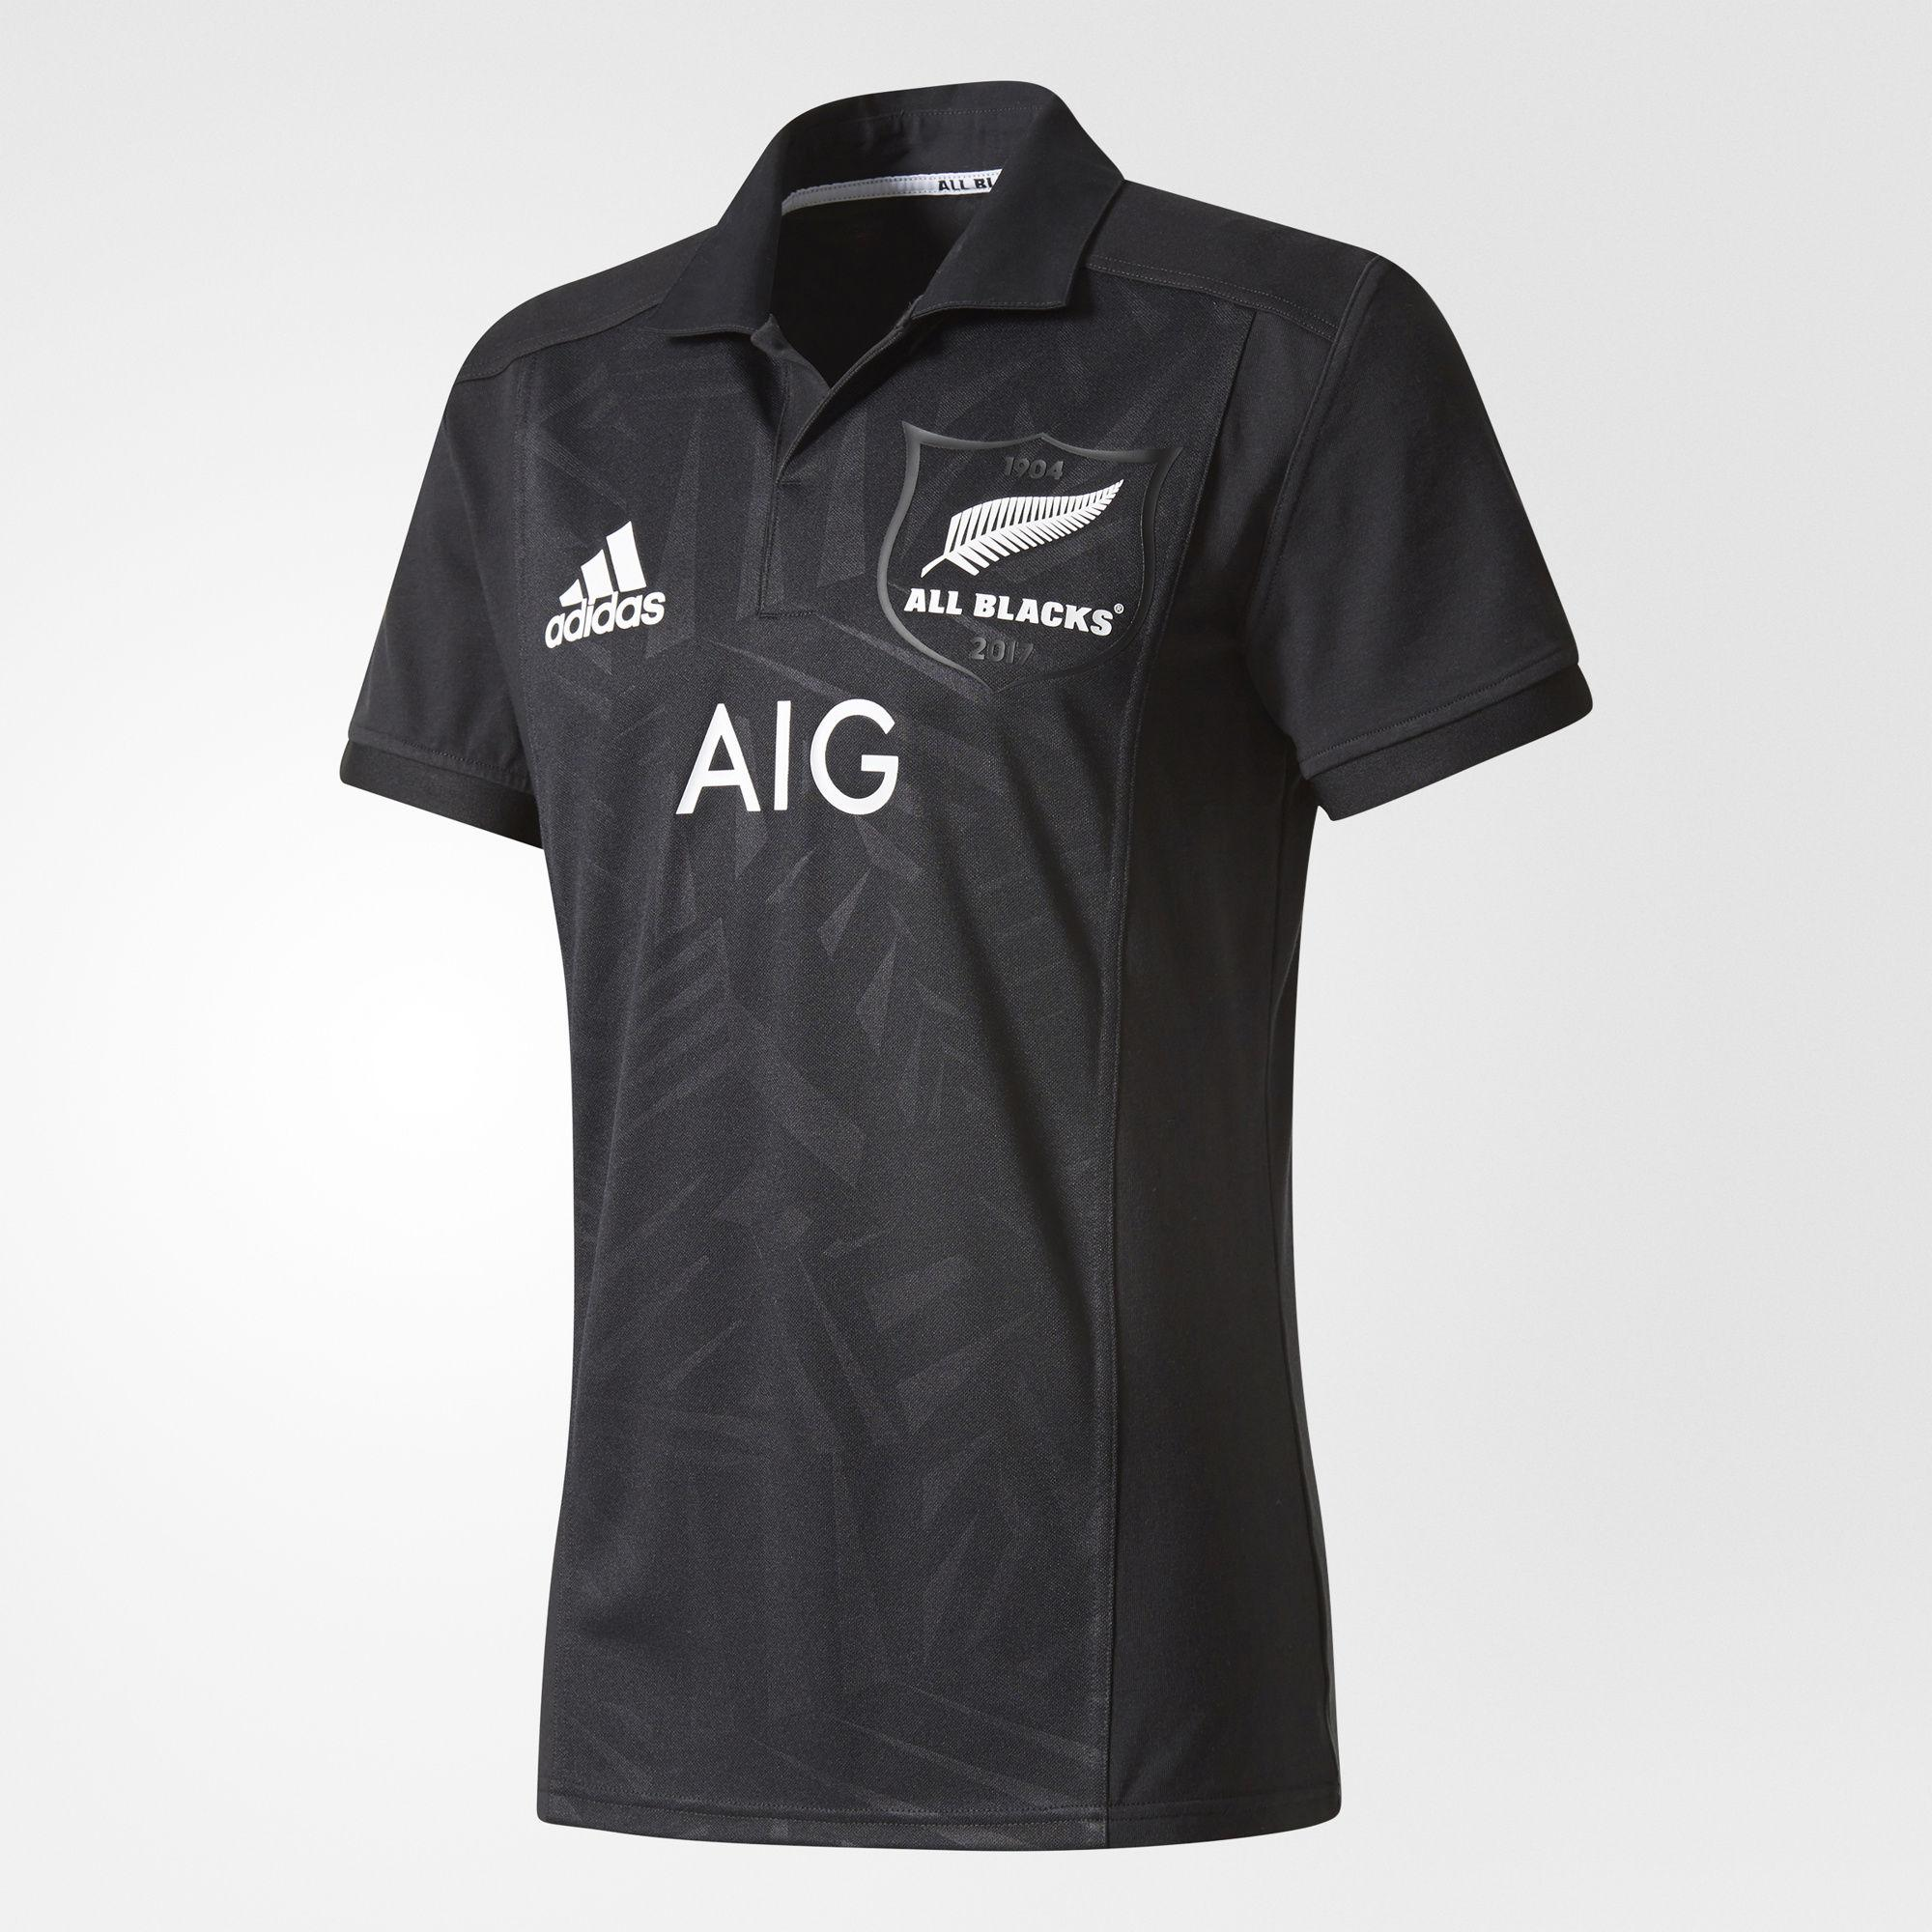teeshirt: (258, 64, 1688, 1932)
